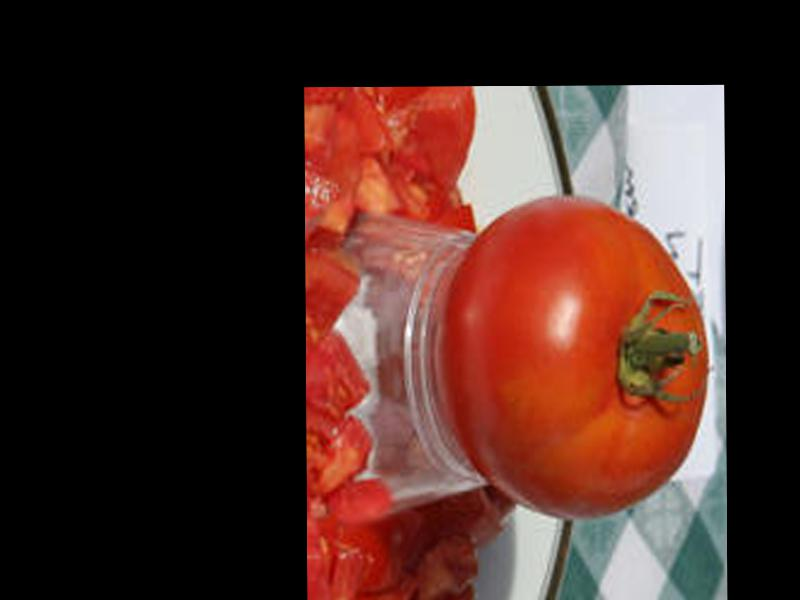Tomato: (441, 192, 712, 521)
